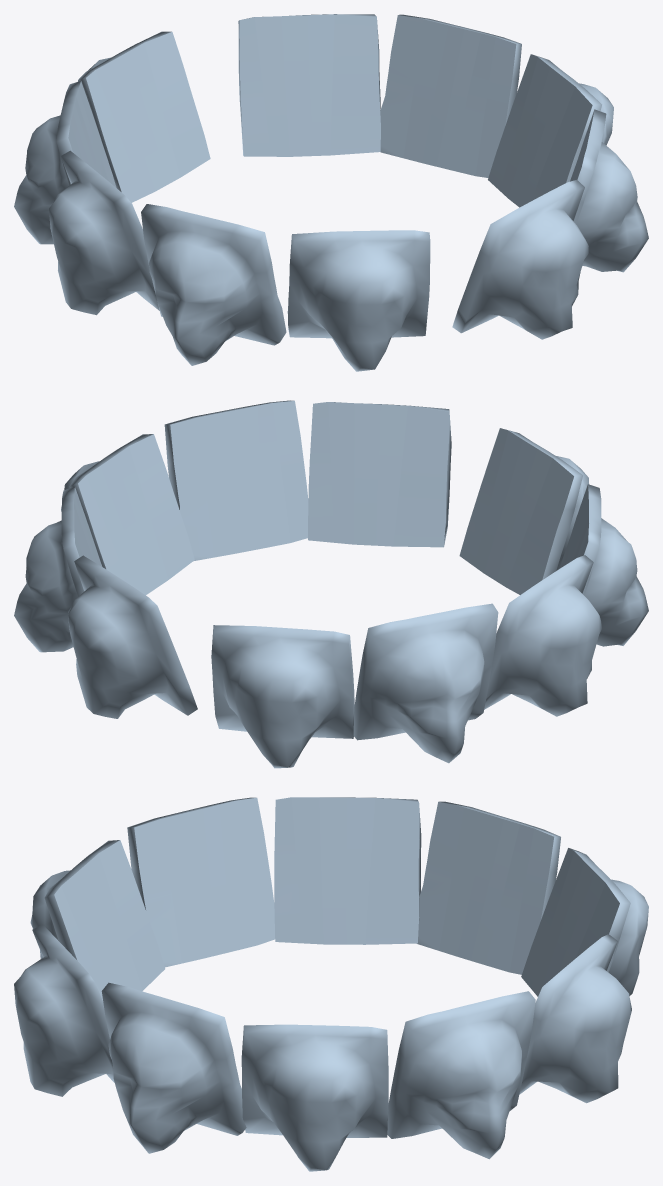
File: Statues_Grp_06B_Lod0.fbx
The picture shows the model from 3 angles, top to bottom: view 1: azimuth 30°, elevation 25°; view 2: azimuth 150°, elevation 25°; view 3: azimuth 270°, elevation 25°; orthographic projection. The views are drawn at different scales.
Parts seen in each view (by area): view 1: Statues_Grp_06B_Lod0; view 2: Statues_Grp_06B_Lod0; view 3: Statues_Grp_06B_Lod0.
Part boxes in pixels (<box>): Statues_Grp_06B_Lod0: <box>14,14,648,371</box>; Statues_Grp_06B_Lod0: <box>14,400,648,768</box>; Statues_Grp_06B_Lod0: <box>14,797,648,1171</box>.
Bounding box in the file's own units: 248 × 61.47 × 245.
